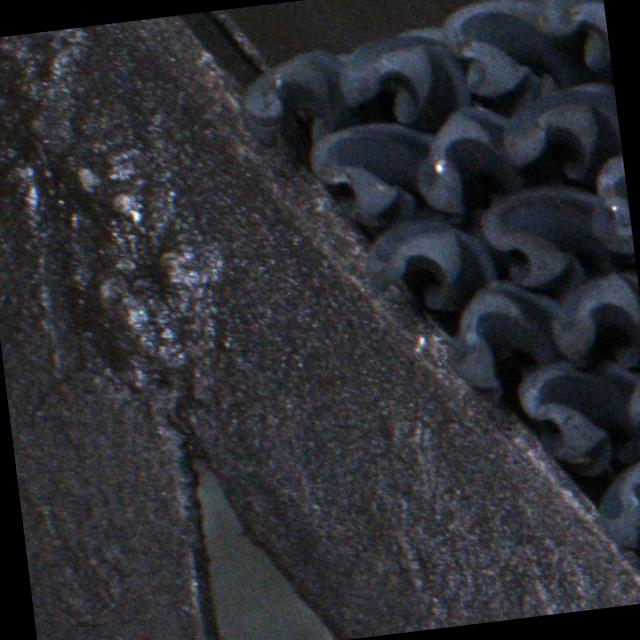tool_b: (443, 274, 572, 408), (512, 352, 640, 481), (474, 175, 614, 292), (302, 119, 443, 234), (358, 212, 501, 320), (439, 0, 578, 110), (332, 22, 472, 131), (408, 100, 526, 218), (493, 82, 623, 189), (236, 48, 363, 156), (544, 269, 640, 376), (582, 153, 636, 269), (534, 0, 612, 79), (592, 455, 640, 563), (623, 351, 640, 461)
